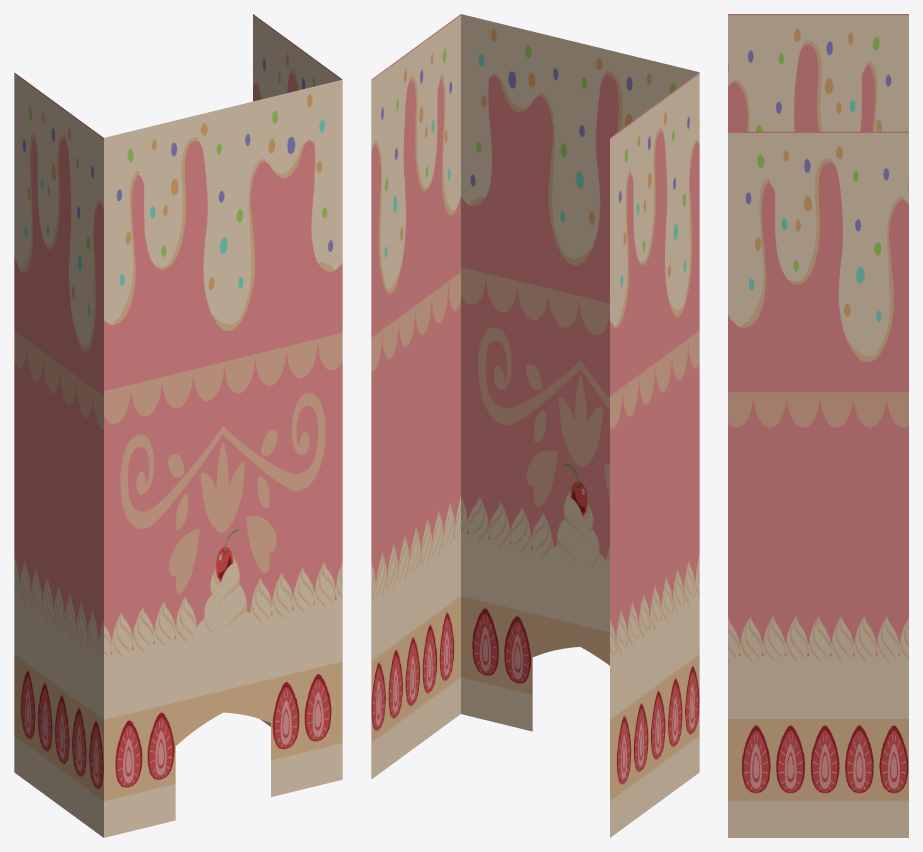
Rendered from BgMD_DoorWall.fbx.
3 renders of one model, left to right at view 1: azimuth 30°, elevation 25°; view 2: azimuth 150°, elevation 25°; view 3: azimuth 270°, elevation 25°, orthographic.
Parts seen in each view (by area): view 1: Extended_DoorWall; view 2: Extended_DoorWall; view 3: Extended_DoorWall.
Part boxes in pixels (<box>): Extended_DoorWall: <box>14,14,342,837</box>; Extended_DoorWall: <box>371,14,699,837</box>; Extended_DoorWall: <box>728,14,908,837</box>.
Bounding box in the file's own units: 1000 × 2800 × 650.
